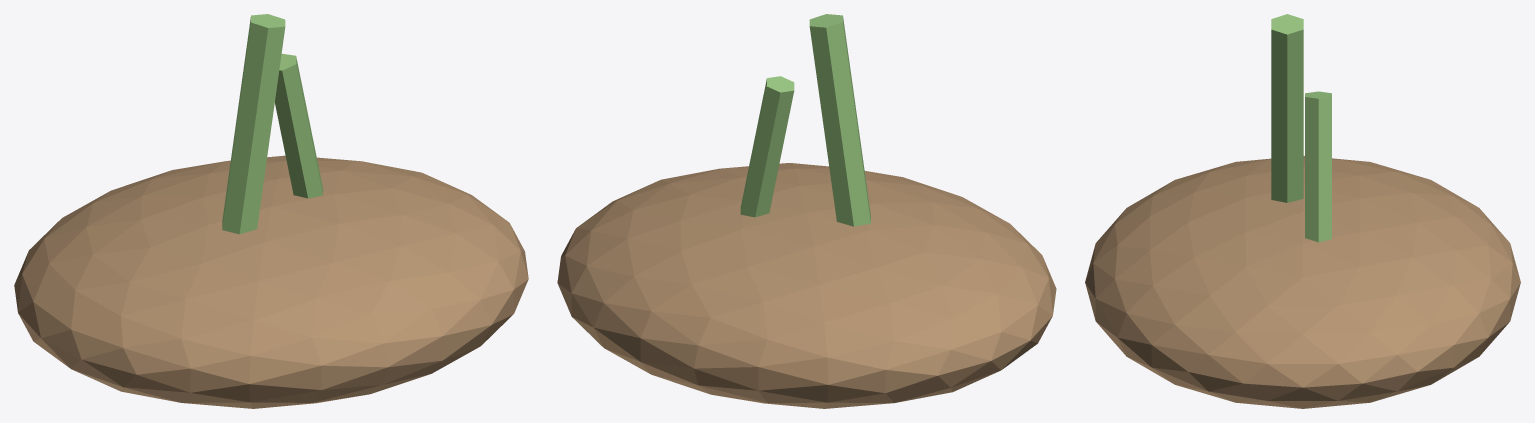
Rendered from cebolla_brote.glb.
The picture shows the model from 3 angles, left to right: view 1: azimuth 30°, elevation 25°; view 2: azimuth 150°, elevation 25°; view 3: azimuth 270°, elevation 25°; orthographic projection. The views are drawn at different scales.
Visible parts, largest first — view 1: dirt, shoot_a, shoot_b; view 2: dirt, shoot_a, shoot_b; view 3: dirt, shoot_a, shoot_b.
Part boxes in pixels (bbox=[...]): dirt: bbox=[14, 155, 528, 408]; shoot_a: bbox=[222, 14, 285, 234]; shoot_b: bbox=[275, 53, 323, 198]; dirt: bbox=[557, 163, 1056, 408]; shoot_a: bbox=[809, 14, 870, 226]; shoot_b: bbox=[740, 76, 794, 217]; dirt: bbox=[1085, 156, 1520, 408]; shoot_a: bbox=[1271, 14, 1303, 202]; shoot_b: bbox=[1305, 91, 1331, 242].
Size of the model in its own units: 0.32 by 0.2309 by 0.28.
